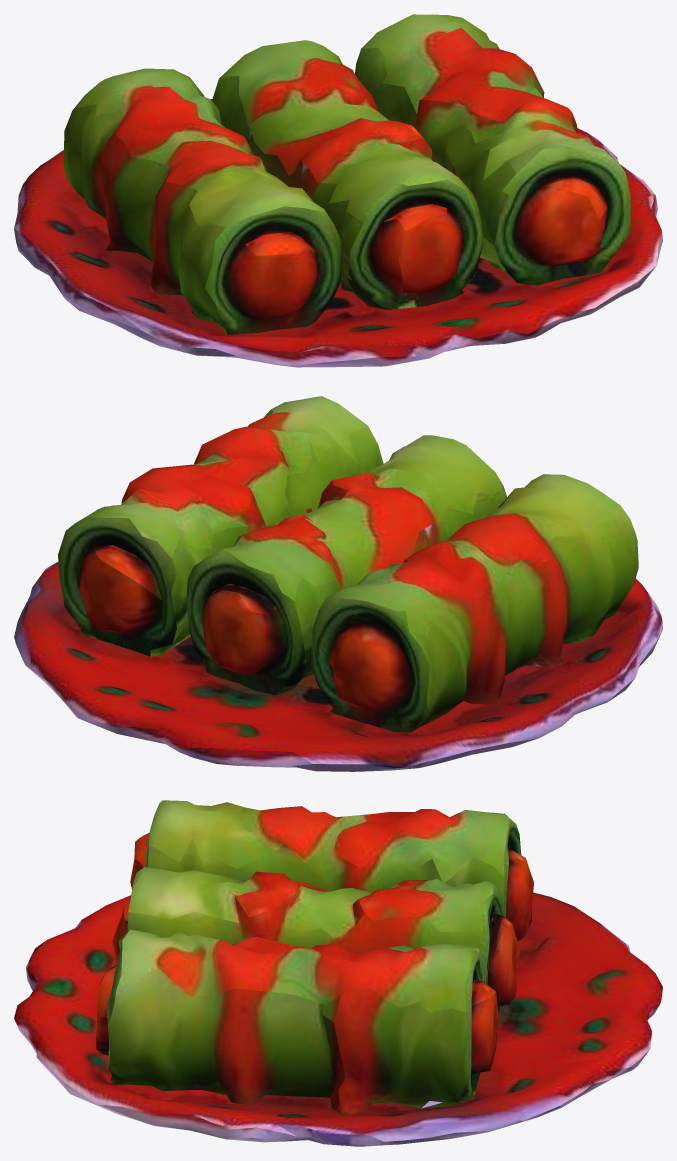
The model's file is cabbage_rolls.glb.
3 renders of one model, top to bottom at view 1: azimuth 30°, elevation 25°; view 2: azimuth 150°, elevation 25°; view 3: azimuth 270°, elevation 25°, orthographic.
Parts seen in each view (by area): view 1: cabbage_rolls; view 2: cabbage_rolls; view 3: cabbage_rolls.
Boxes of the visible parts, x1,y1,x2,y2 form: cabbage_rolls: (14, 14, 662, 367); cabbage_rolls: (14, 396, 662, 771); cabbage_rolls: (14, 800, 662, 1146).
Size of the model in its own units: 0.9871 by 0.2502 by 1.
Materials: 1 (1 with a texture image).
